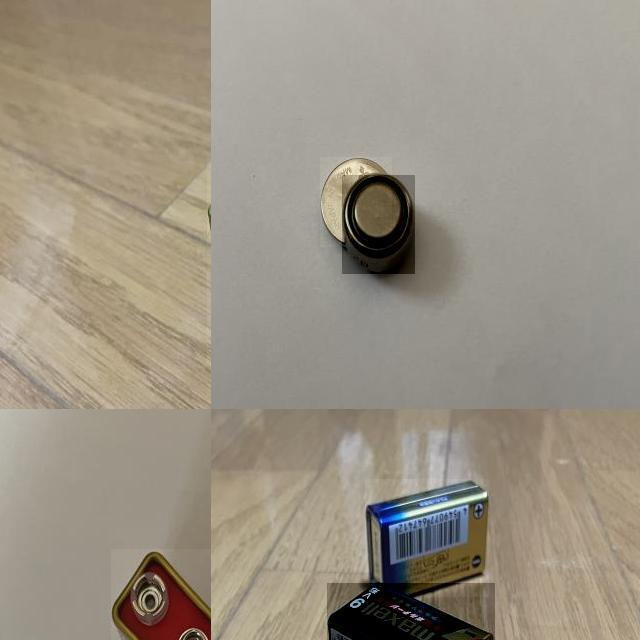9V: (365, 480, 490, 598), (327, 583, 495, 640), (111, 549, 211, 640)
